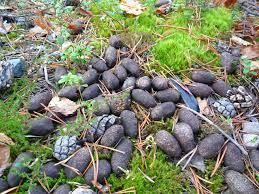Elk: (155, 110, 244, 167), (37, 70, 167, 109), (67, 116, 137, 165)
